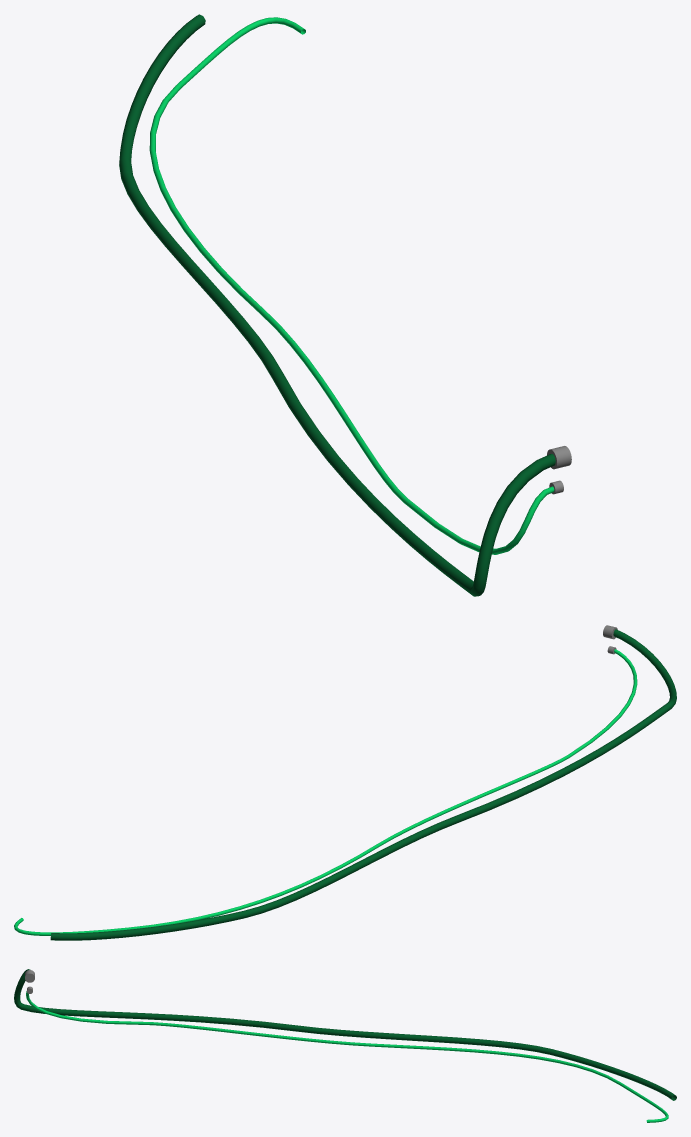
File: Cables.glb
3 views of the same model, one above another, from view 1: azimuth 30°, elevation 25°; view 2: azimuth 150°, elevation 25°; view 3: azimuth 270°, elevation 25° (orthographic). The views are drawn at different scales.
Parts seen in each view (by area): view 1: Cable1_AboutCopy, Cable2_AboutCopy; view 2: Cable1_AboutCopy, Cable2_AboutCopy; view 3: Cable1_AboutCopy, Cable2_AboutCopy.
Boxes of the visible parts, x1,y1,x2,y2 form: Cable1_AboutCopy: (119,14,555,596); Cable2_AboutCopy: (149,17,554,554); Cable1_AboutCopy: (50,629,676,940); Cable2_AboutCopy: (14,649,637,935); Cable1_AboutCopy: (14,969,676,1100); Cable2_AboutCopy: (26,991,668,1122).
Size of the model in its own units: 3.39 by 0.9052 by 8.45.
